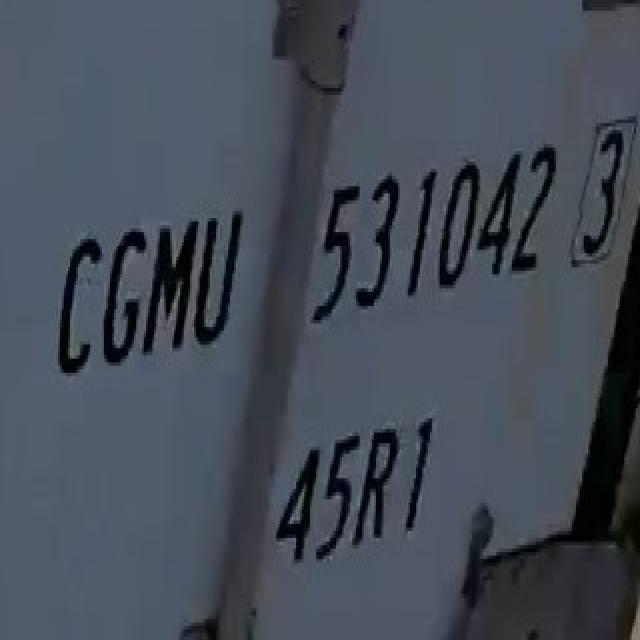dv: (563, 98, 640, 276)
owner: (39, 176, 250, 400)
serial: (306, 111, 559, 338)
size: (269, 400, 450, 575)
